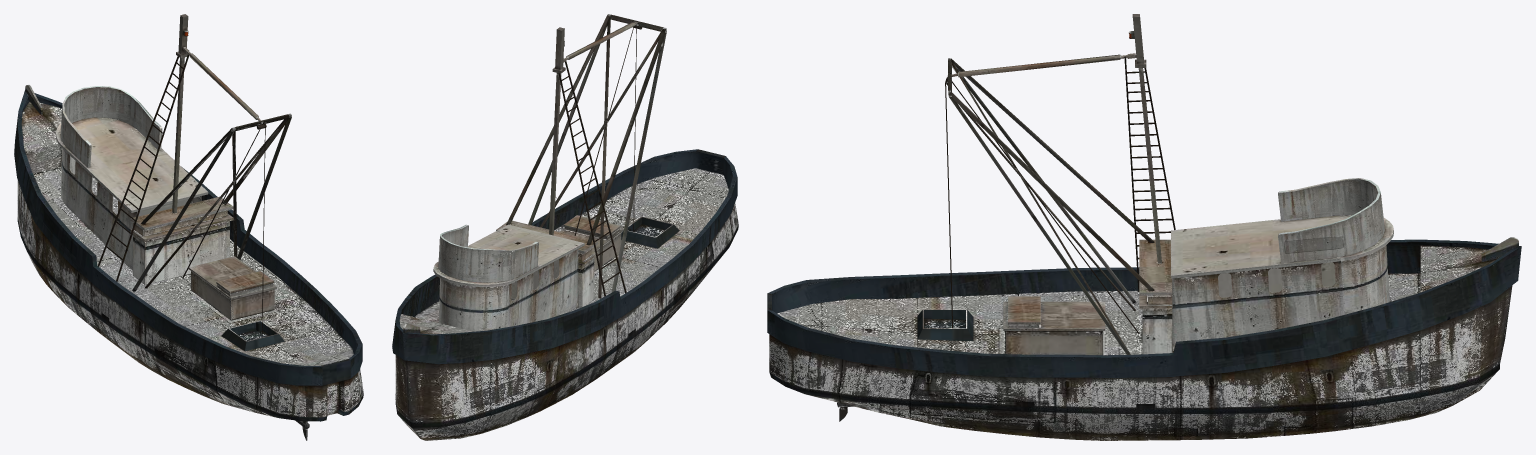
File: fishing-boat.obj
The picture shows the model from 3 angles, left to right: view 1: azimuth 30°, elevation 25°; view 2: azimuth 150°, elevation 25°; view 3: azimuth 270°, elevation 25°; orthographic projection. The views are drawn at different scales.
Visible parts, largest first — view 1: boat; view 2: boat; view 3: boat.
Boxes of the visible parts, <box> form: boat: <box>14,14,363,440</box>; boat: <box>392,14,738,440</box>; boat: <box>767,14,1521,440</box>.
Size of the model in its own units: 6.07 by 12.77 by 21.5.
Materials: 1 (1 with a texture image).
